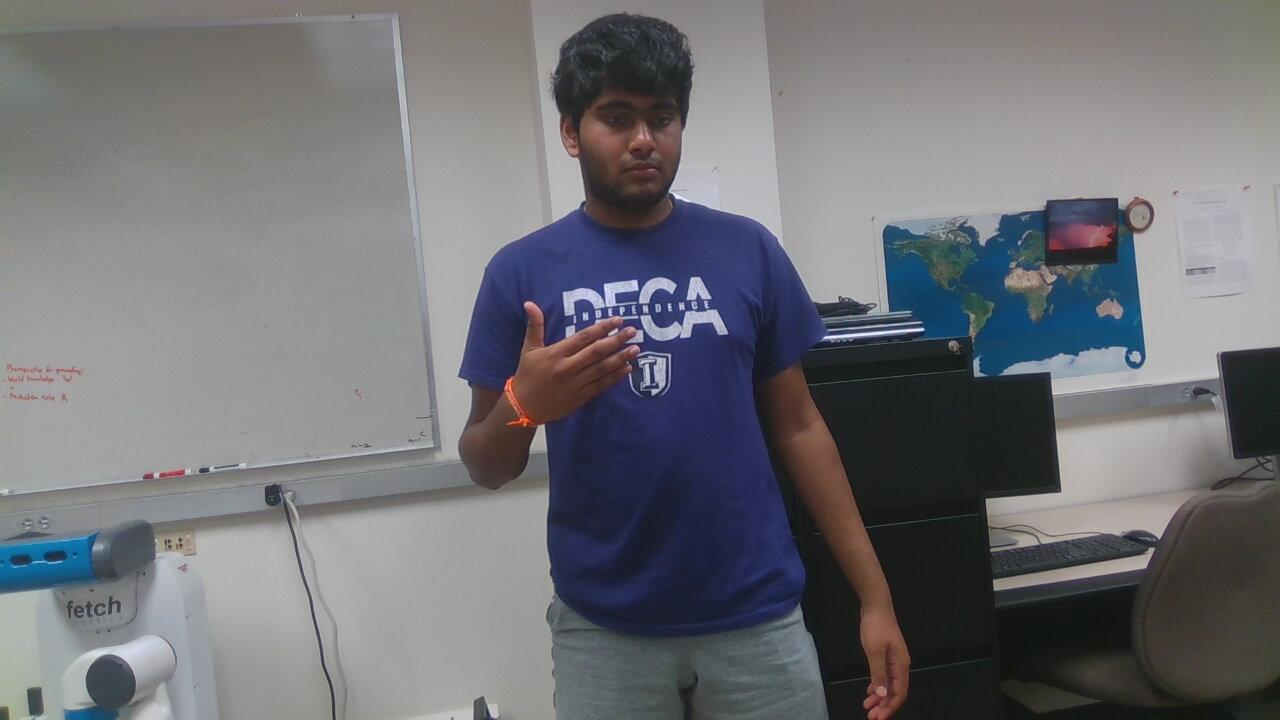hands: (496, 302, 645, 425), (841, 597, 929, 720)
